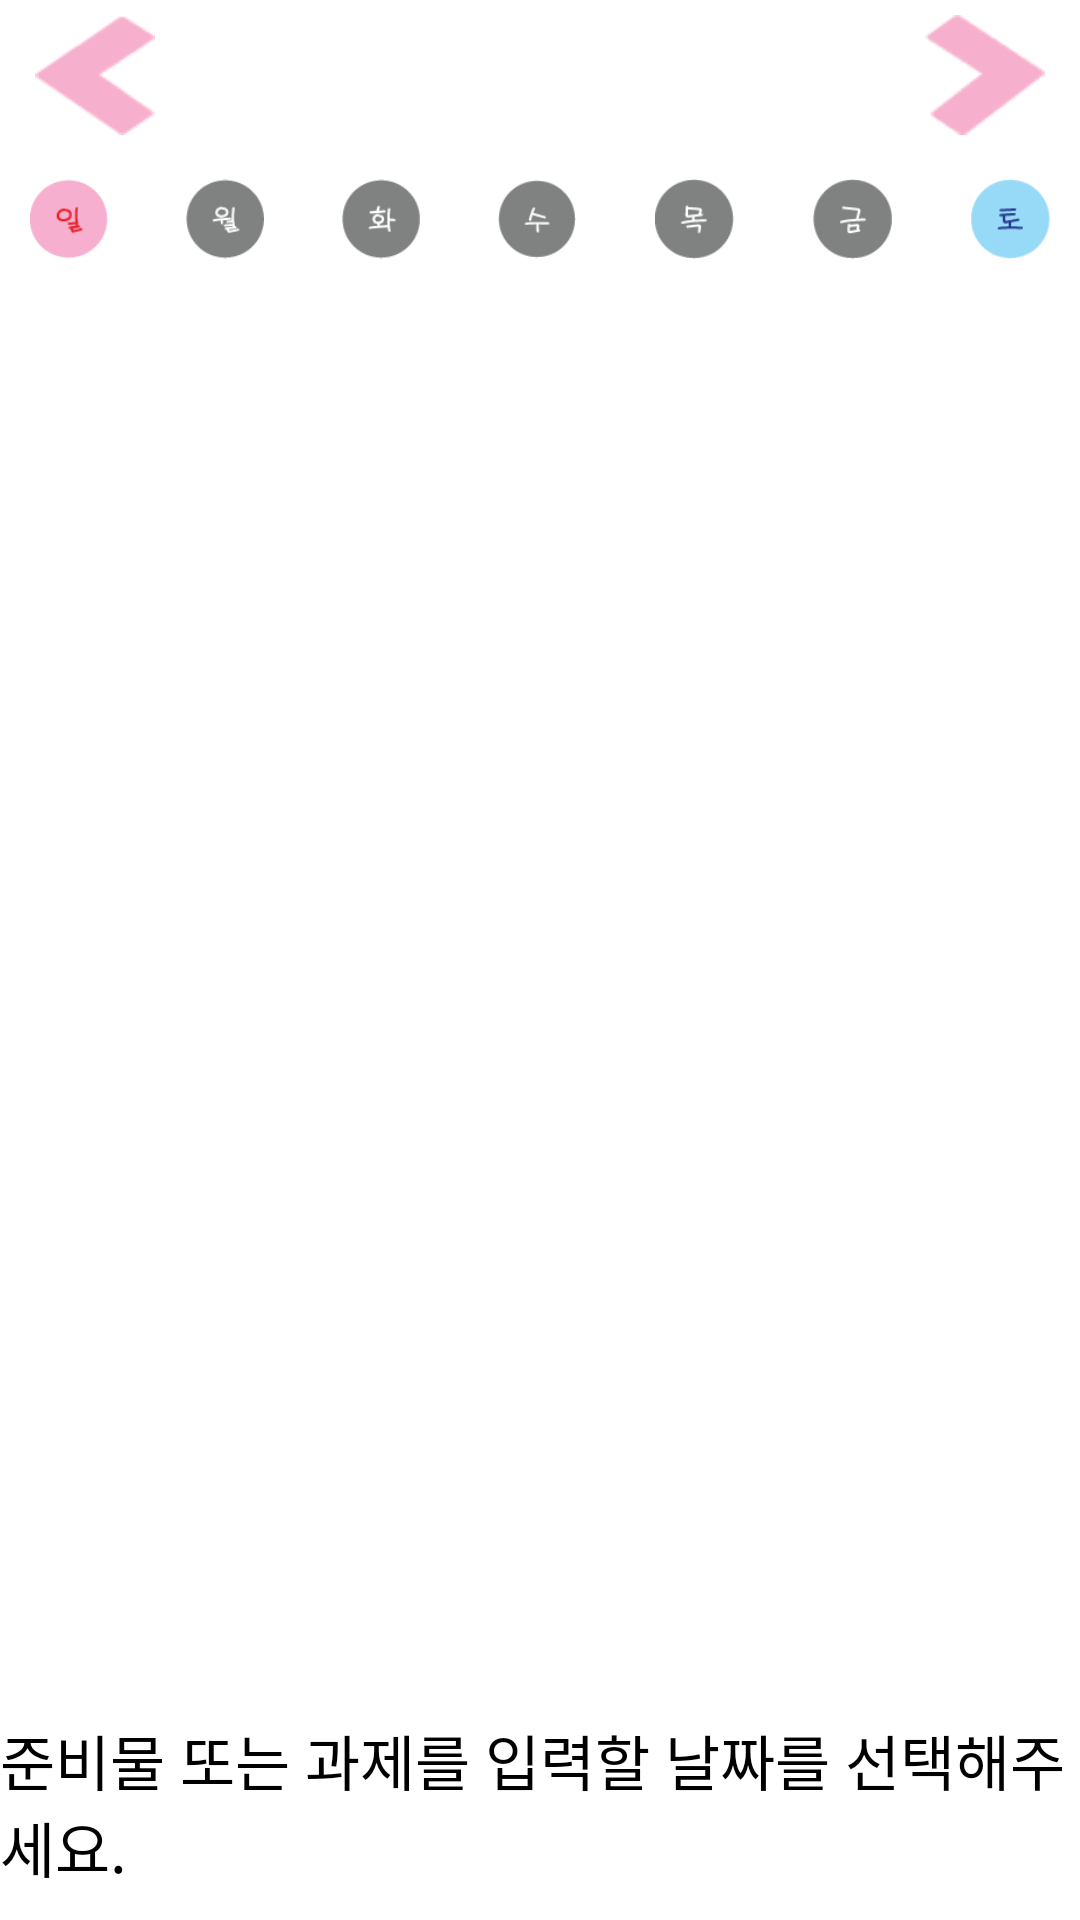

Locate icon controls on the screen. Image size 1080*1920, boxes as (x1, y1, x2, y2).
before: (35, 17, 155, 135)
next: (927, 15, 1045, 135)
